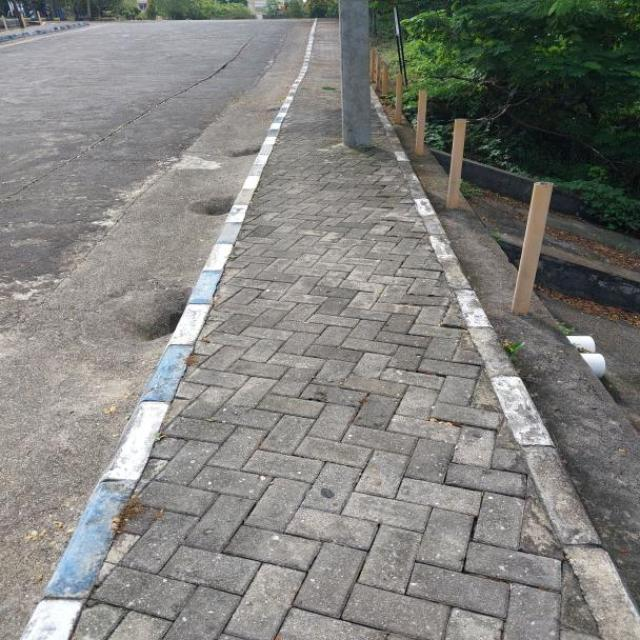barrier ahead at: (515, 176, 562, 320), (441, 112, 469, 206), (408, 85, 434, 152)
electric pole ahead at: (339, 2, 379, 148)
